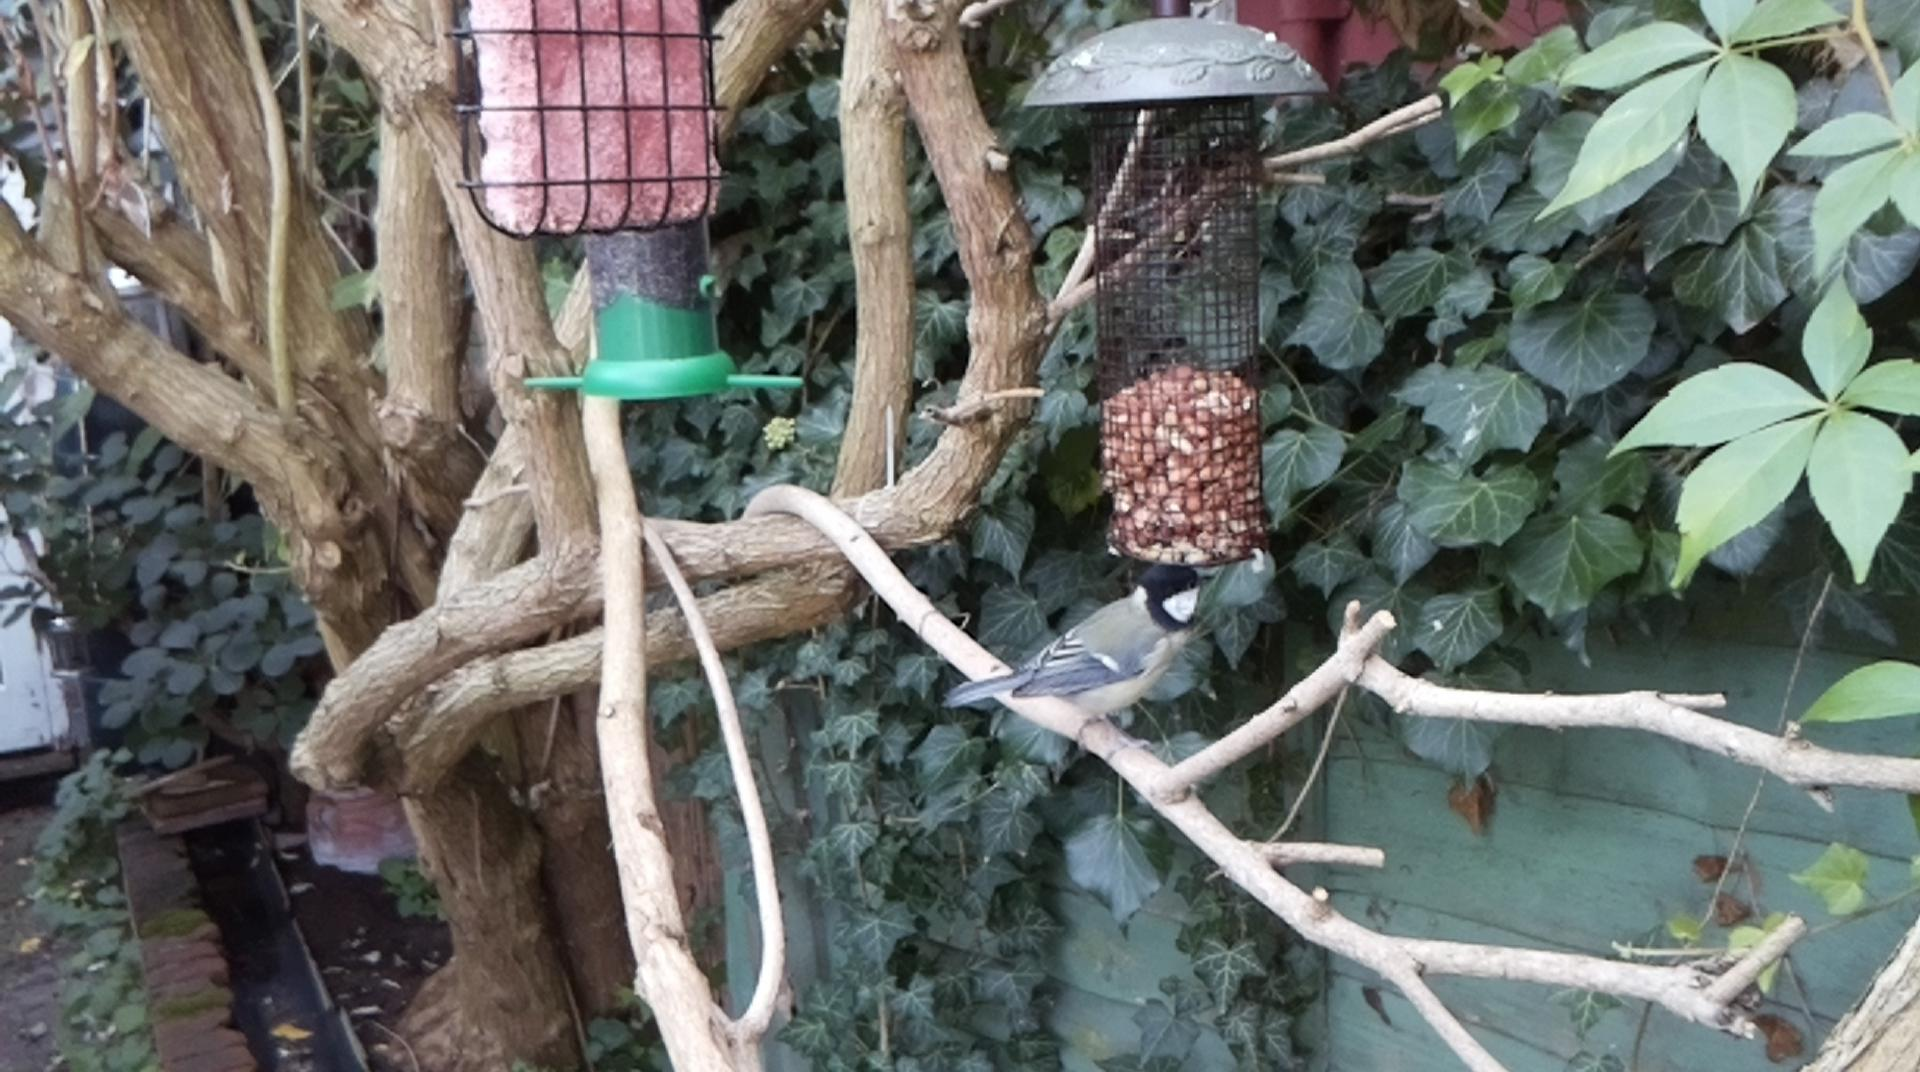great tit: (942, 562, 1218, 766)
